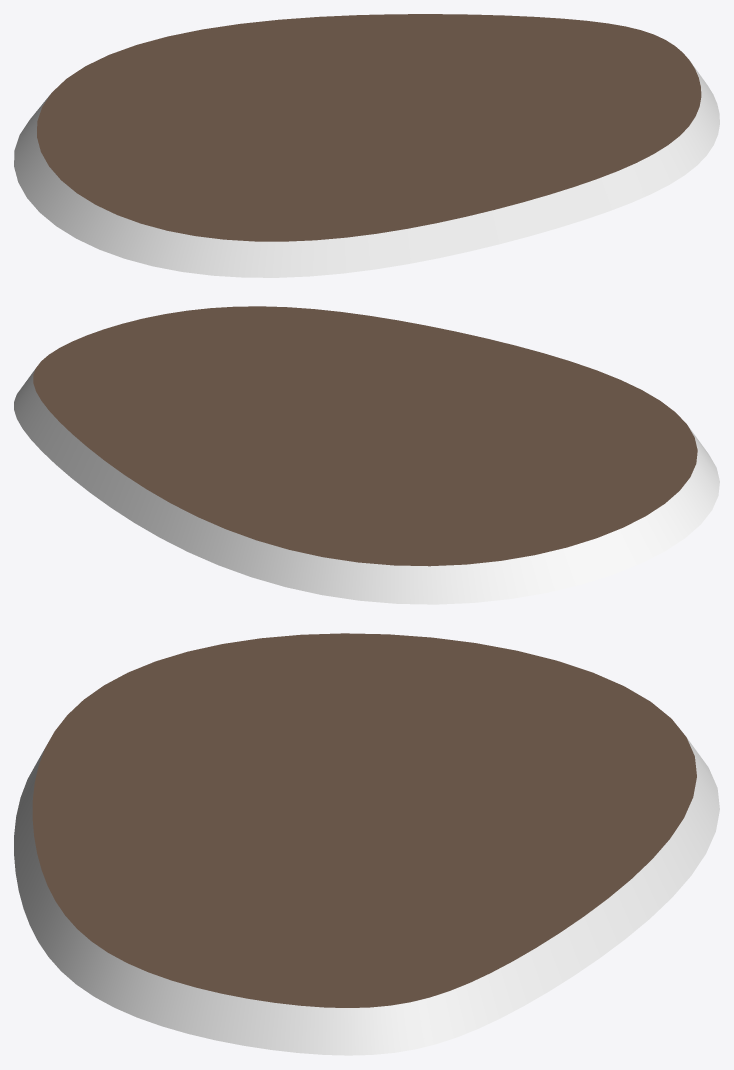
Rendered from Podium_B.FBX.
The picture shows the model from 3 angles, top to bottom: view 1: azimuth 30°, elevation 25°; view 2: azimuth 150°, elevation 25°; view 3: azimuth 270°, elevation 25°; orthographic projection. The views are drawn at different scales.
Parts seen in each view (by area): view 1: Wood_Podium; view 2: Wood_Podium; view 3: Wood_Podium.
Boxes of the visible parts, x1,y1,x2,y2 form: Wood_Podium: (14,14,719,277); Wood_Podium: (14,306,719,604); Wood_Podium: (14,633,719,1055).
Bounding box in the file's own units: 153 × 6.54 × 115.
